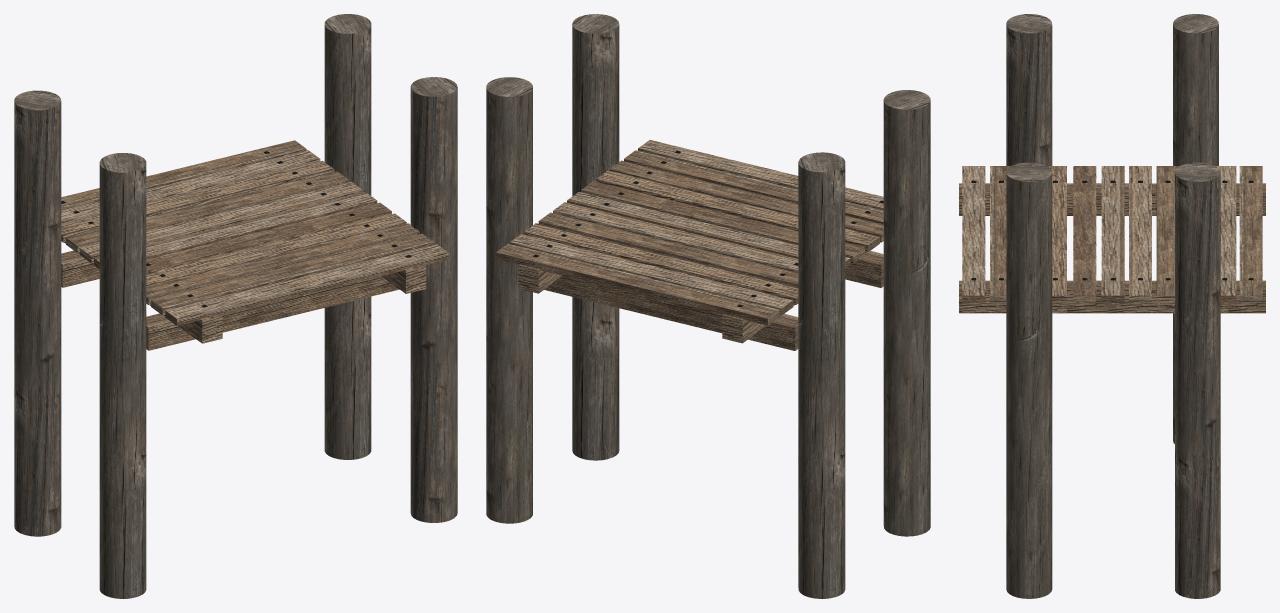
The model's file is Kit Platadorma Madera.fbx.
3 renders of one model, left to right at view 1: azimuth 30°, elevation 25°; view 2: azimuth 150°, elevation 25°; view 3: azimuth 270°, elevation 25°, orthographic. The views are drawn at different scales.
Parts seen in each view (by area): view 1: Plataforma 4x4, Columna6x.002, Columna6x.001, Columna6x.3, Columna6x.004, Viga 4x0.3, Viga 4x0.001; view 2: Plataforma 4x4, Columna6x.001, Columna6x.002, Columna6x.004, Columna6x.3, Viga 4x0.001, Viga 4x0.3; view 3: Plataforma 4x4, Columna6x.3, Columna6x.004, Columna6x.002, Columna6x.001.
Boxes of the visible parts, box(x1,y1,x2,y2) form: Plataforma 4x4: box(61, 140, 448, 343); Columna6x.002: box(14, 90, 61, 536); Columna6x.001: box(99, 153, 146, 598); Columna6x.3: box(410, 77, 457, 522); Columna6x.004: box(324, 14, 371, 459); Viga 4x0.3: box(146, 276, 399, 350); Viga 4x0.001: box(61, 250, 99, 287); Plataforma 4x4: box(496, 140, 883, 343); Columna6x.001: box(883, 90, 930, 536); Columna6x.002: box(798, 152, 845, 598); Columna6x.004: box(486, 77, 532, 523); Columna6x.3: box(572, 14, 619, 460); Viga 4x0.001: box(544, 275, 798, 350); Viga 4x0.3: box(845, 251, 883, 287); Plataforma 4x4: box(959, 166, 1265, 313); Columna6x.3: box(1006, 162, 1052, 598); Columna6x.004: box(1175, 162, 1220, 598); Columna6x.002: box(1173, 14, 1218, 443); Columna6x.001: box(1006, 14, 1052, 165).
Size of the model in its own units: 518 by 600 by 400.
3 materials, 2 textured.
